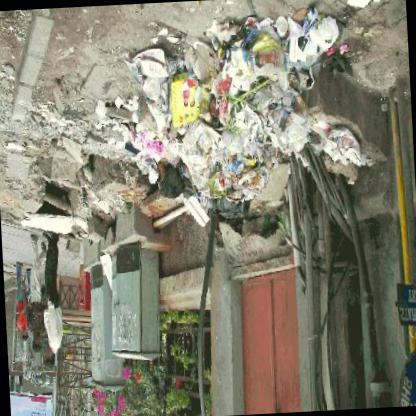Garbage: (258, 2, 366, 80), (203, 8, 263, 136), (162, 61, 206, 127), (320, 122, 376, 170), (212, 148, 258, 196), (112, 138, 178, 170)
